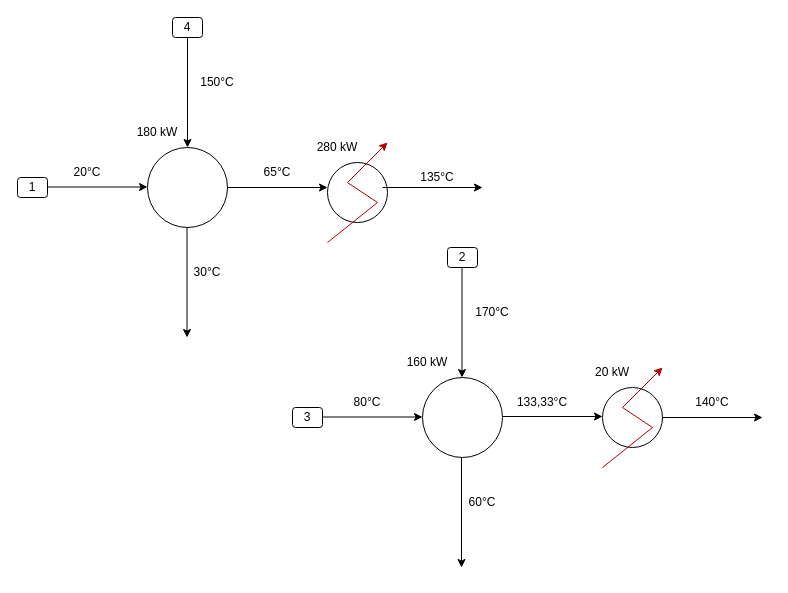
Image size: 788x593. Some labels were removed from this diagram. The centre of each missing label's shape, as x and y in pixels:
2x3: (462,417)
4x1: (187,187)
